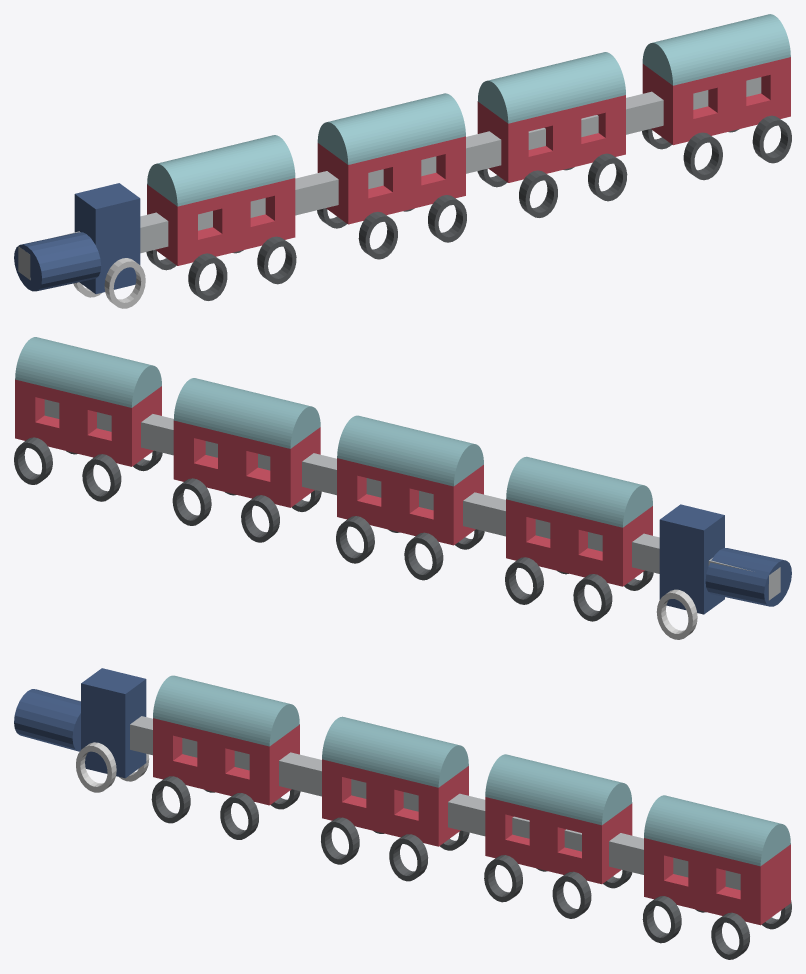
File: Train.glb
3 renders of one model, top to bottom at view 1: azimuth 30°, elevation 25°; view 2: azimuth 150°, elevation 25°; view 3: azimuth 330°, elevation 25°, orthographic.
Visible parts, largest first — view 1: Mesh_Mesh_head_geo.001_lambert2SG.001; view 2: Mesh_Mesh_head_geo.001_lambert2SG.001; view 3: Mesh_Mesh_head_geo.001_lambert2SG.001.
Part boxes in pixels (x1=…): Mesh_Mesh_head_geo.001_lambert2SG.001: x1=14, y1=14, x2=791, y2=308; Mesh_Mesh_head_geo.001_lambert2SG.001: x1=14, y1=337, x2=791, y2=639; Mesh_Mesh_head_geo.001_lambert2SG.001: x1=14, y1=668, x2=791, y2=959.
Size of the model in its own units: 185 by 30 by 22.
